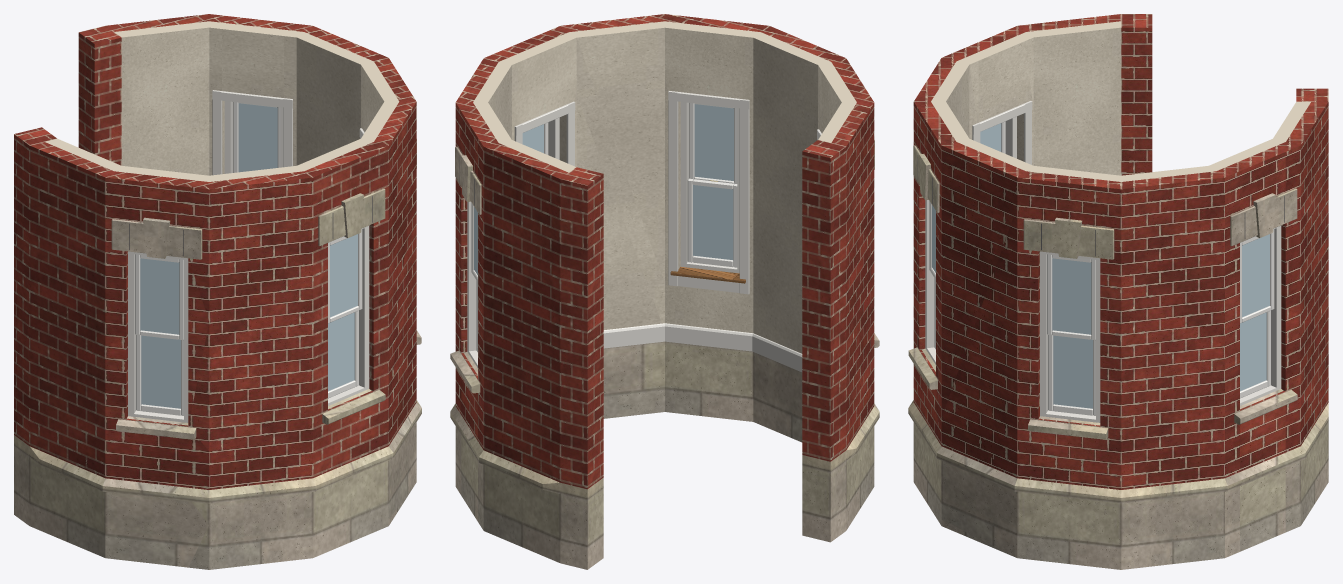
Rendered from turret0.glb.
3 renders of one model, left to right at view 1: azimuth 30°, elevation 25°; view 2: azimuth 150°, elevation 25°; view 3: azimuth 270°, elevation 25°, orthographic.
Parts seen in each view (by area): view 1: turret0_brick, turret0_stone_t, turret0_plaster, turret0_glass, turret0_frame, turret0_sash, turret0_trim; view 2: turret0_brick, turret0_plaster, turret0_stone_t, turret0_trim, turret0_glass, turret0_frame, turret0_sash, turret0_oak; view 3: turret0_brick, turret0_stone_t, turret0_plaster, turret0_glass, turret0_frame, turret0_sash, turret0_trim.
Part boxes in pixels (left/top/right/bottom): turret0_brick: left=14, top=14, right=416, bottom=489; turret0_stone_t: left=14, top=139, right=421, bottom=569; turret0_plaster: left=45, top=21, right=399, bottom=181; turret0_glass: left=140, top=103, right=357, bottom=408; turret0_frame: left=128, top=101, right=369, bottom=422; turret0_sash: left=135, top=102, right=362, bottom=415; turret0_trim: left=212, top=90, right=364, bottom=175; turret0_brick: left=455, top=14, right=874, bottom=489; turret0_plaster: left=473, top=21, right=856, bottom=353; turret0_stone_t: left=450, top=140, right=879, bottom=569; turret0_trim: left=514, top=91, right=821, bottom=372; turret0_glass: left=474, top=104, right=733, bottom=275; turret0_frame: left=467, top=102, right=739, bottom=367; turret0_sash: left=471, top=103, right=737, bottom=352; turret0_oak: left=670, top=266, right=745, bottom=283; turret0_brick: left=913, top=14, right=1328, bottom=489; turret0_stone_t: left=908, top=145, right=1328, bottom=569; turret0_plaster: left=931, top=21, right=1310, bottom=181; turret0_glass: left=932, top=123, right=1269, bottom=408; turret0_frame: left=925, top=116, right=1281, bottom=422; turret0_sash: left=929, top=121, right=1274, bottom=415; turret0_trim: left=972, top=101, right=1032, bottom=164.
Bounding box in the file's own units: 4.05 × 4.05 × 4.05.
Materials: 10 (4 with a texture image).
